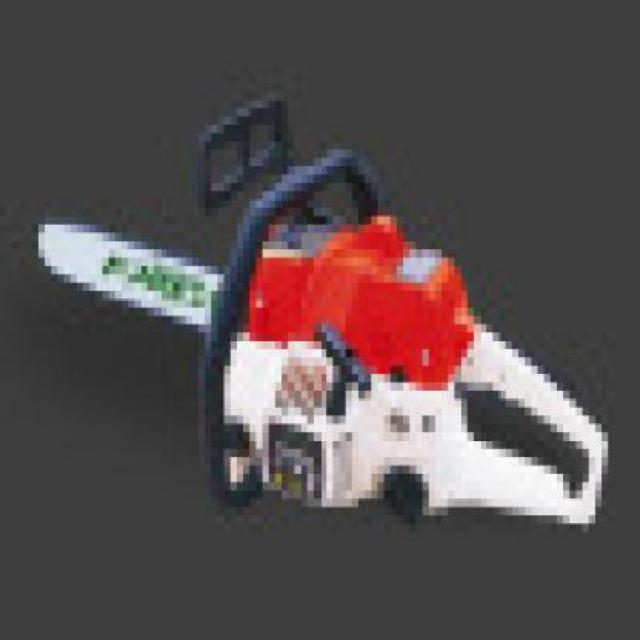Chainsaw: (31, 91, 609, 535)
